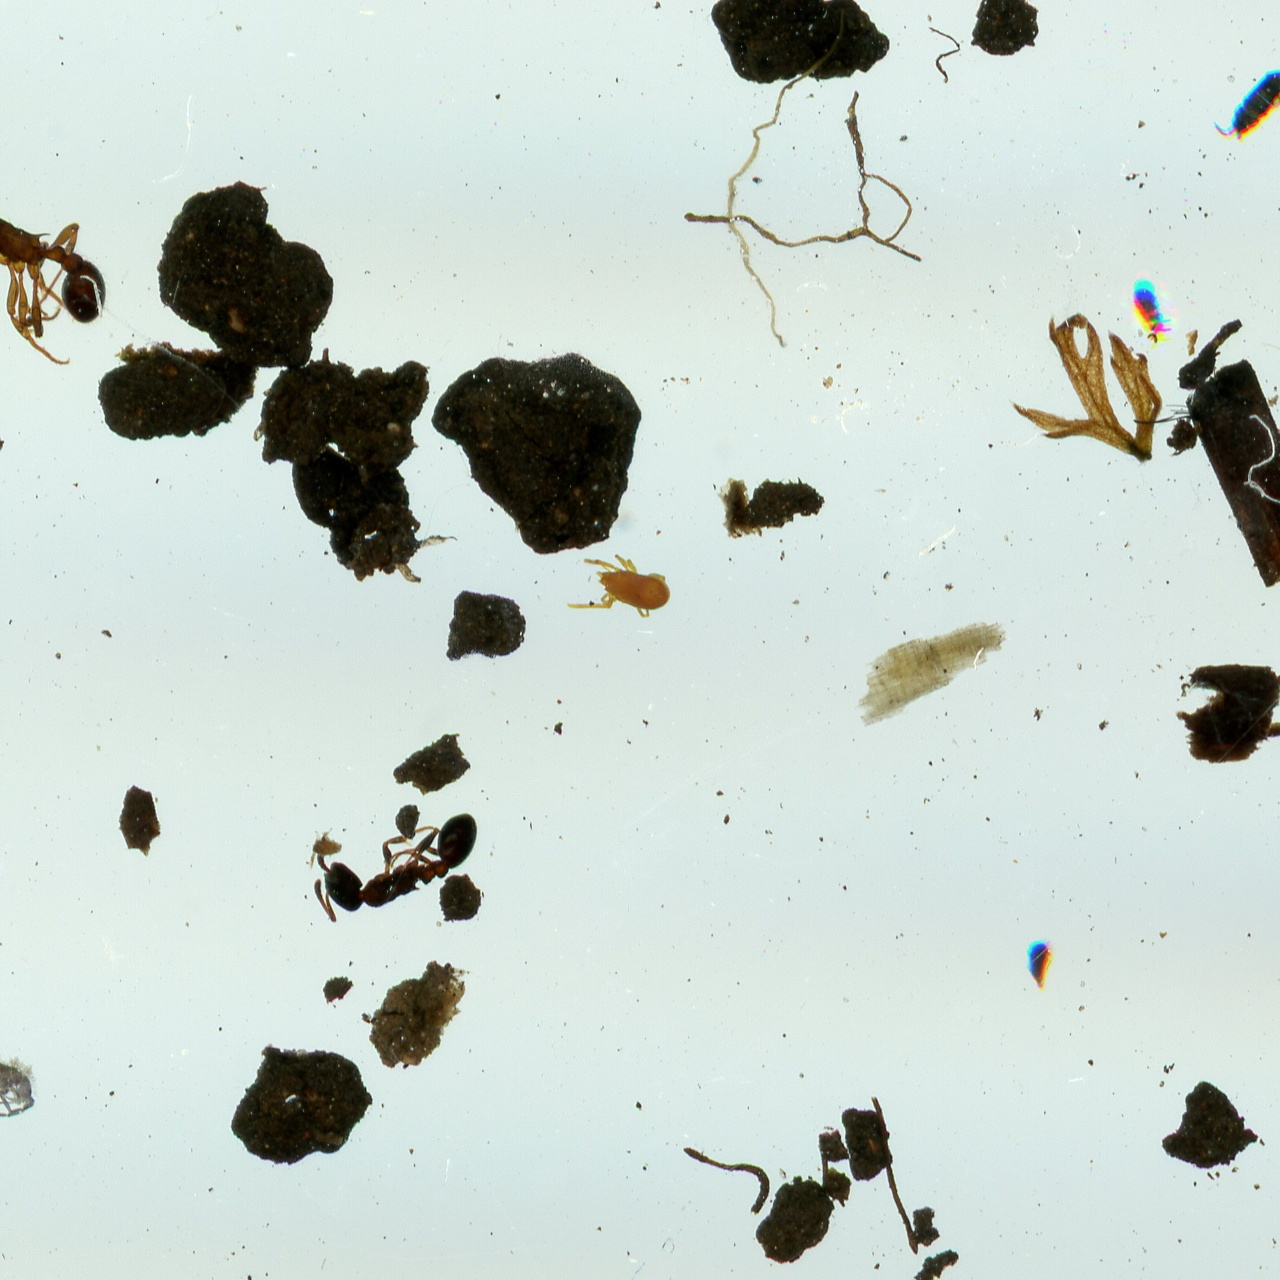arthropod: (0, 129, 157, 425), (295, 782, 497, 930), (1205, 47, 1280, 158), (563, 552, 675, 623), (1118, 272, 1183, 354), (0, 1014, 43, 1123)
